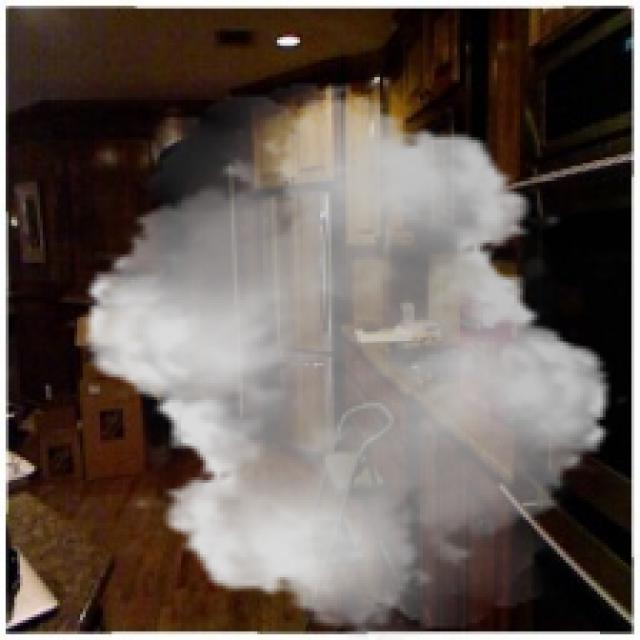smoke: (63, 83, 634, 637)
